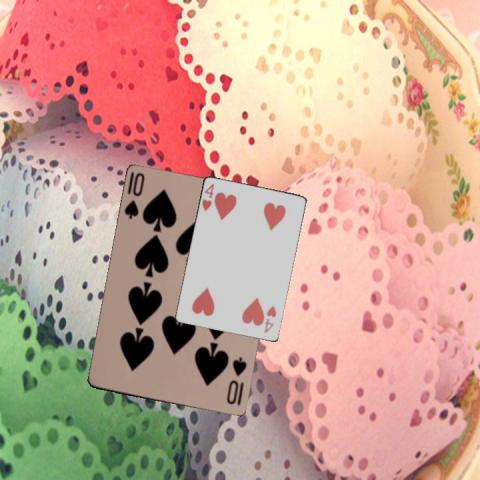10s: (223, 354, 249, 406), (121, 170, 146, 221)
4h: (261, 303, 278, 335), (200, 180, 216, 212)
